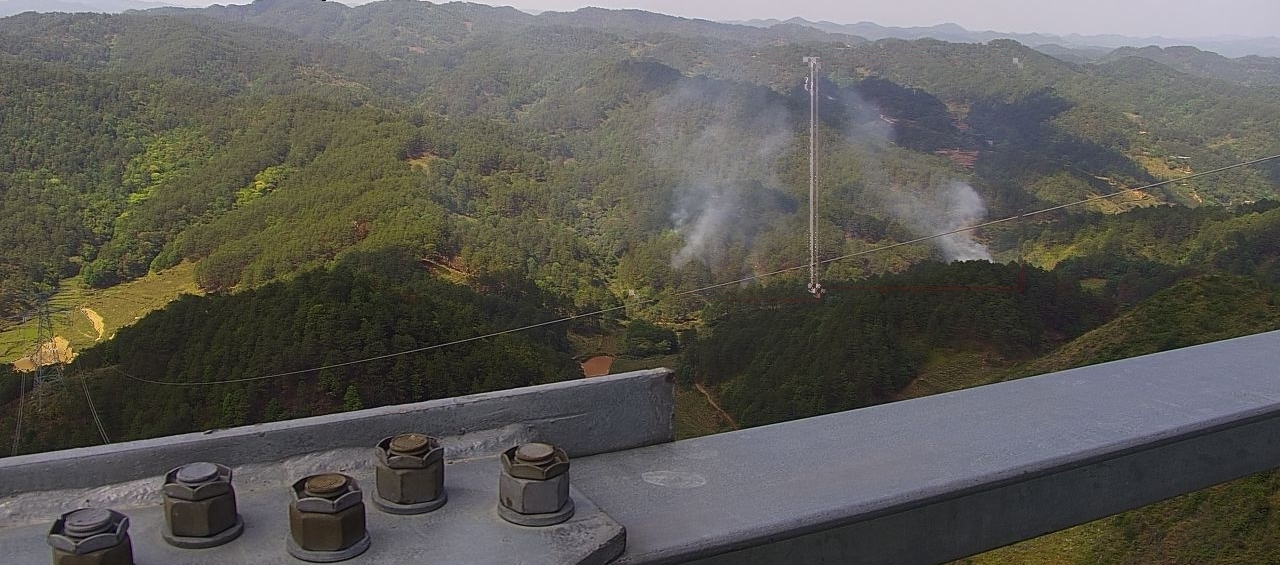烟雾: (640, 46, 800, 291), (834, 82, 995, 265)
